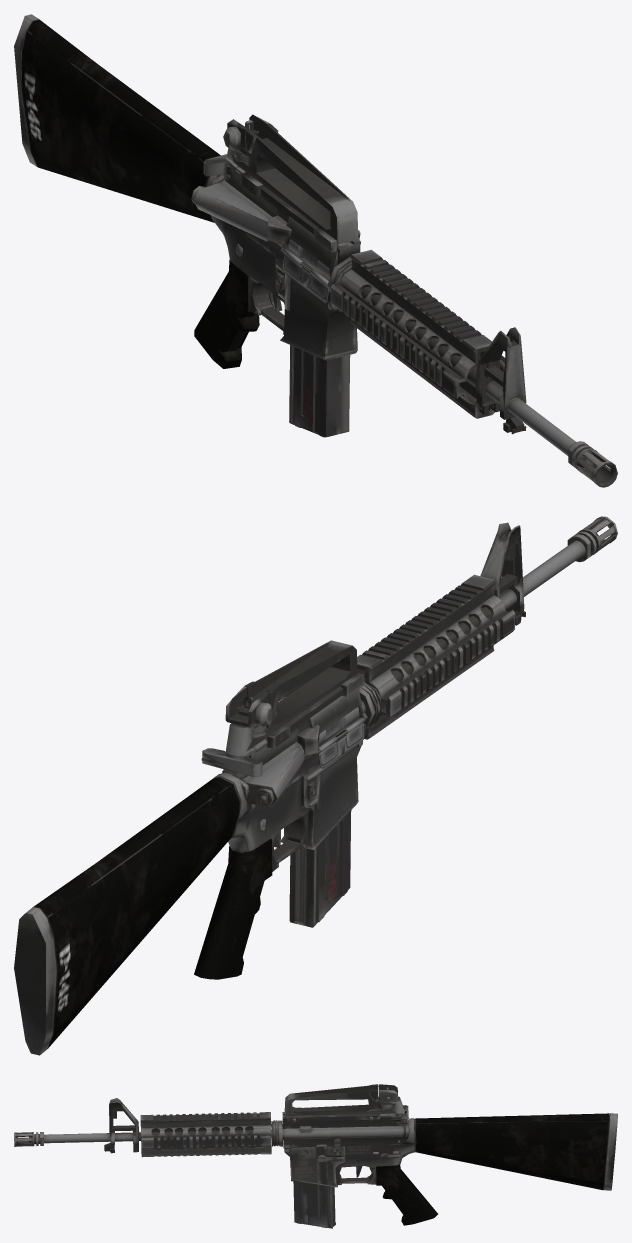
3 renders of one model, top to bottom at view 1: azimuth 30°, elevation 25°; view 2: azimuth 150°, elevation 25°; view 3: azimuth 270°, elevation 25°, orthographic. The views are drawn at different scales.
Visible parts, largest first — view 1: BODY_M16A3_0, RAIL_M16A3_0, REAR_SIGHT_M16A3_0, MAGAZINE_M16A3_0, PISTOL_GRIP_M16A3_0, BARREL_M16A3_0, FRONT_SIGHT_M16A3_0, DUST_COVER_M16A3_0; view 2: BODY_M16A3_0, RAIL_M16A3_0, REAR_SIGHT_M16A3_0, PISTOL_GRIP_M16A3_0, MAGAZINE_M16A3_0, BARREL_M16A3_0, FRONT_SIGHT_M16A3_0, CHANRIGN_HANDLE_M16A3_0, DUST_COVER_M16A3_0; view 3: BODY_M16A3_0, RAIL_M16A3_0, REAR_SIGHT_M16A3_0, PISTOL_GRIP_M16A3_0, MAGAZINE_M16A3_0, BARREL_M16A3_0, FRONT_SIGHT_M16A3_0.
Boxes of the visible parts, x1,y1,x2,y2 form: BODY_M16A3_0: (14, 14, 360, 360); RAIL_M16A3_0: (330, 249, 505, 418); REAR_SIGHT_M16A3_0: (223, 114, 360, 252); MAGAZINE_M16A3_0: (289, 345, 350, 437); PISTOL_GRIP_M16A3_0: (194, 259, 259, 368); BARREL_M16A3_0: (361, 287, 617, 487); FRONT_SIGHT_M16A3_0: (475, 327, 526, 434); DUST_COVER_M16A3_0: (283, 249, 328, 301); BODY_M16A3_0: (14, 682, 381, 1055); RAIL_M16A3_0: (357, 574, 515, 739); REAR_SIGHT_M16A3_0: (225, 640, 363, 755); PISTOL_GRIP_M16A3_0: (194, 839, 272, 979); MAGAZINE_M16A3_0: (289, 810, 351, 927); BARREL_M16A3_0: (391, 516, 617, 681); FRONT_SIGHT_M16A3_0: (480, 522, 525, 625); CHANRIGN_HANDLE_M16A3_0: (201, 748, 262, 777); DUST_COVER_M16A3_0: (318, 717, 364, 768); BODY_M16A3_0: (271, 1110, 617, 1190); RAIL_M16A3_0: (140, 1112, 271, 1157); REAR_SIGHT_M16A3_0: (284, 1084, 404, 1122); PISTOL_GRIP_M16A3_0: (376, 1164, 437, 1225); MAGAZINE_M16A3_0: (293, 1181, 335, 1228); BARREL_M16A3_0: (14, 1129, 271, 1146); FRONT_SIGHT_M16A3_0: (104, 1098, 139, 1153).
Bounding box in the file's own units: 0.0755 × 0.2507 × 0.99.
1 material, 1 textured.
